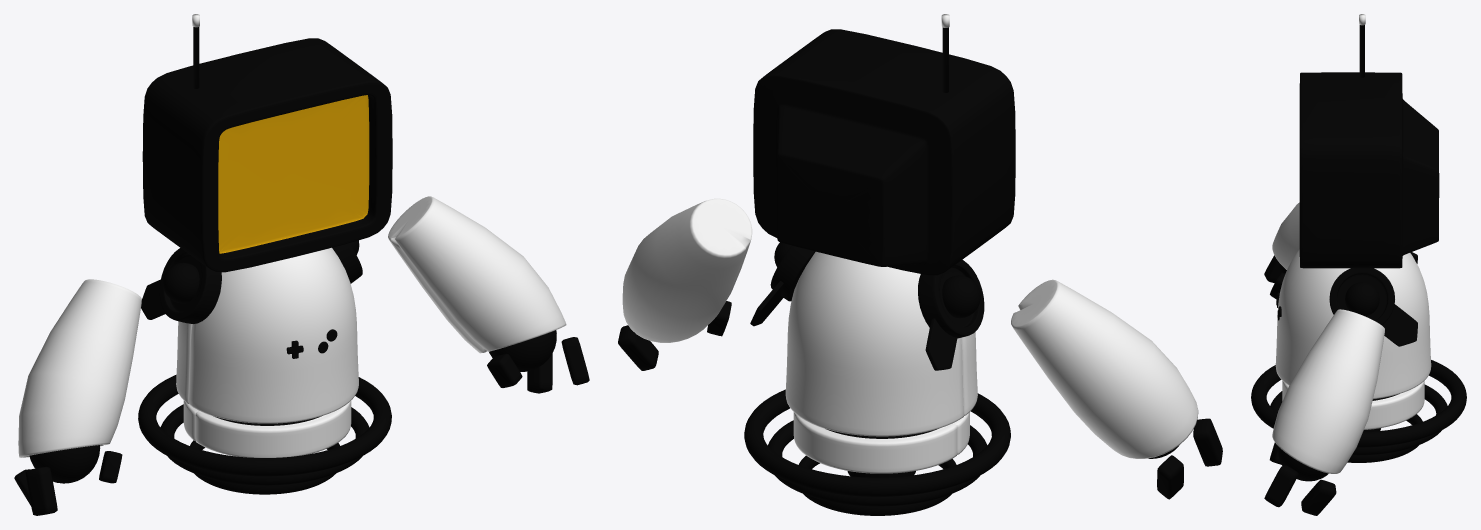
The model's file is Robot.fbx.
The picture shows the model from 3 angles, left to right: view 1: azimuth 30°, elevation 25°; view 2: azimuth 150°, elevation 25°; view 3: azimuth 270°, elevation 25°; orthographic projection. The views are drawn at different scales.
Parts seen in each view (by area): view 1: Cylinder.004; view 2: Cylinder.004; view 3: Cylinder.004.
Part boxes in pixels (x1=…): Cylinder.004: x1=14, y1=14, x2=589, y2=515; Cylinder.004: x1=618, y1=14, x2=1222, y2=515; Cylinder.004: x1=1251, y1=14, x2=1466, y2=515.
Bounding box in the file's own units: 371 × 295 × 147.
